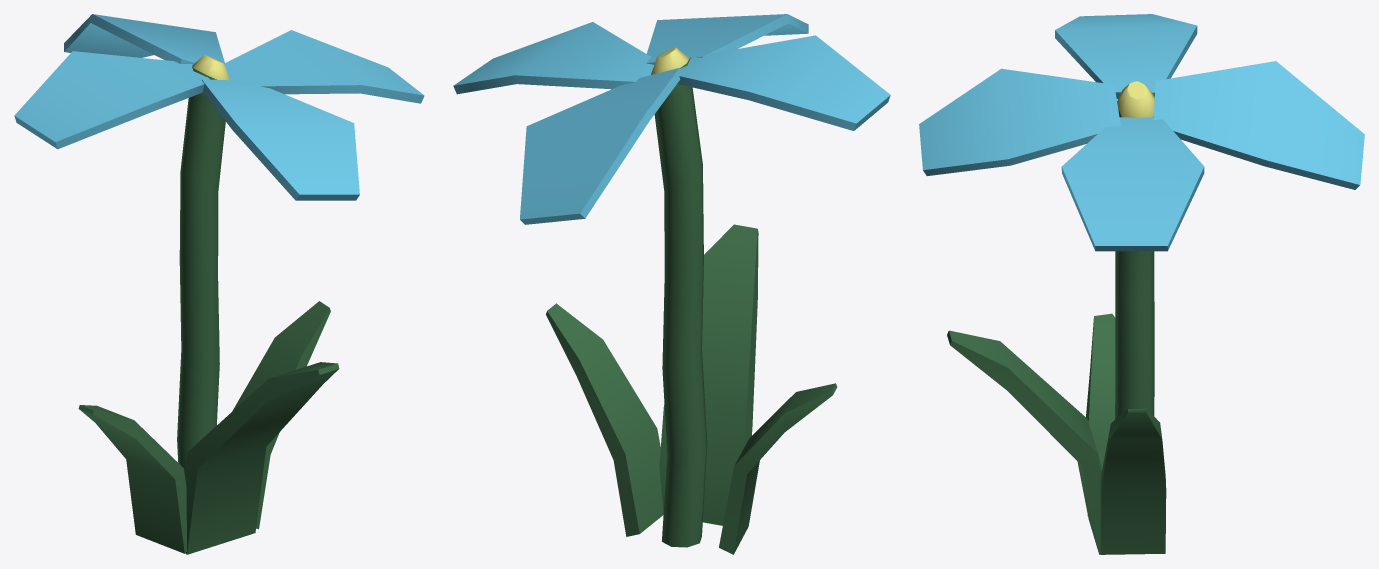
File: Flower_One.fbx
The picture shows the model from 3 angles, left to right: view 1: azimuth 30°, elevation 25°; view 2: azimuth 150°, elevation 25°; view 3: azimuth 270°, elevation 25°; orthographic projection. The views are drawn at different scales.
Visible parts, largest first — view 1: Flower_One; view 2: Flower_One; view 3: Flower_One.
Part boxes in pixels (<box>): Flower_One: <box>14,14,424,554</box>; Flower_One: <box>453,14,890,554</box>; Flower_One: <box>919,14,1364,554</box>.
Size of the model in its own units: 48.68 by 58.42 by 50.37.
